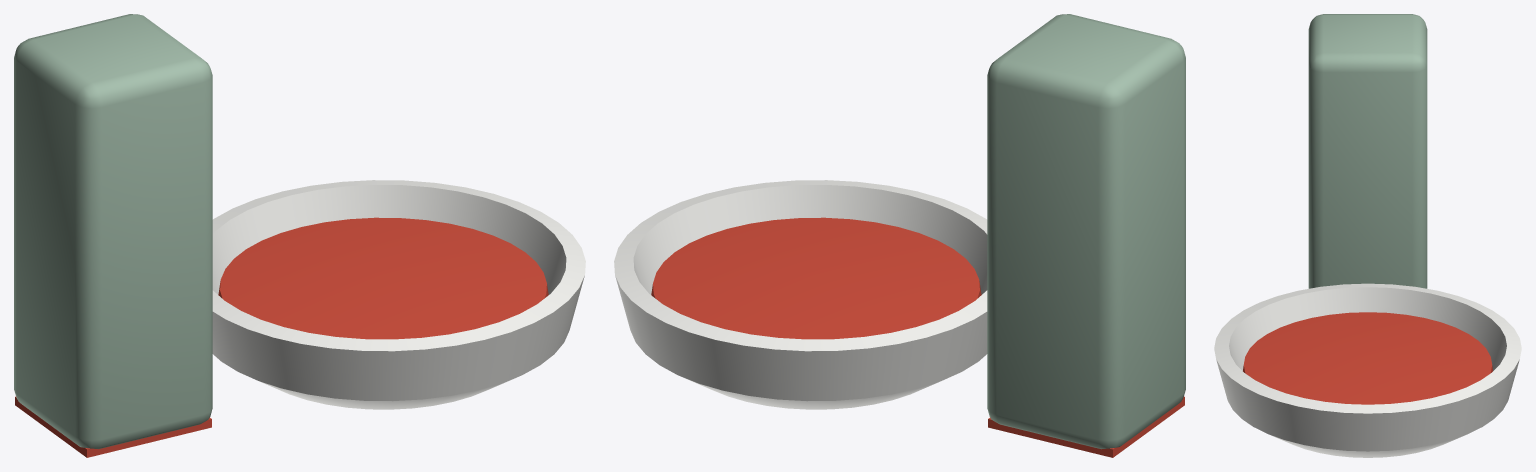
The model's file is seal_set.glb.
3 views of the same model, side by side, from view 1: azimuth 30°, elevation 25°; view 2: azimuth 150°, elevation 25°; view 3: azimuth 270°, elevation 25° (orthographic). The views are drawn at different scales.
Visible parts, largest first — view 1: seal, paste_dish, paste, seal_face; view 2: seal, paste_dish, paste, seal_face; view 3: seal, paste_dish, paste.
Part boxes in pixels (box(x1,y1,x2,y2)): seal: box(14, 14, 212, 449); paste_dish: box(212, 180, 585, 409); paste: box(218, 217, 548, 339); seal_face: box(15, 396, 211, 457); seal: box(987, 14, 1185, 449); paste_dish: box(614, 180, 987, 409); paste: box(651, 217, 981, 339); seal_face: box(988, 396, 1184, 457); seal: box(1308, 14, 1427, 288); paste_dish: box(1214, 283, 1521, 457); paste: box(1243, 312, 1492, 404).
Size of the model in its own units: 0.076 by 0.052 by 0.052.
